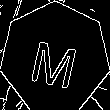M_N: (27, 28, 83, 88)
